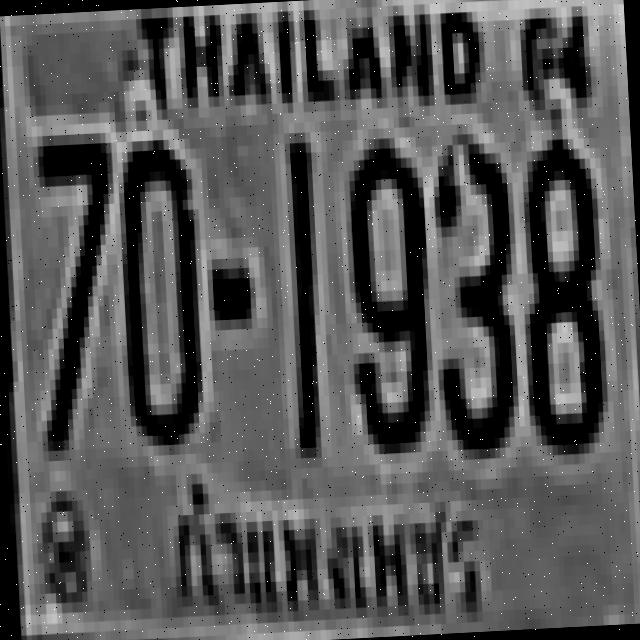0: (112, 132, 206, 448)
1: (281, 138, 323, 454)
3: (427, 128, 523, 457)
7: (32, 130, 122, 448)
8: (515, 128, 611, 460)
9: (344, 134, 436, 456)
KamphaengPhet: (169, 478, 492, 640)
